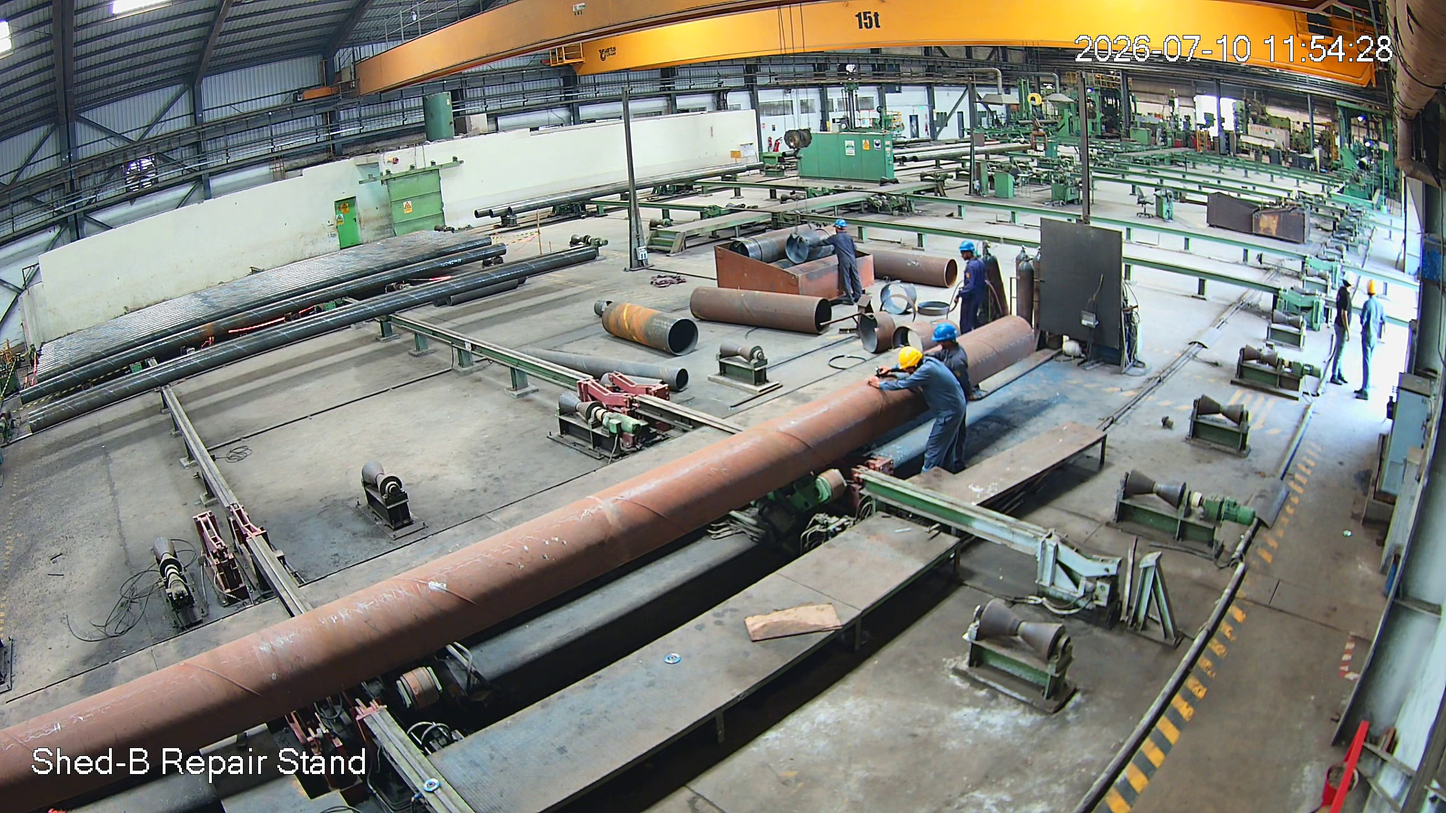Helmet: (928, 313, 959, 357), (895, 346, 925, 390), (956, 235, 981, 279), (1338, 268, 1360, 297), (829, 213, 852, 239), (1364, 272, 1380, 303)
Person: (892, 350, 967, 474), (928, 323, 979, 429), (943, 240, 992, 335), (824, 217, 868, 307), (1359, 274, 1389, 399), (1334, 270, 1360, 398)
